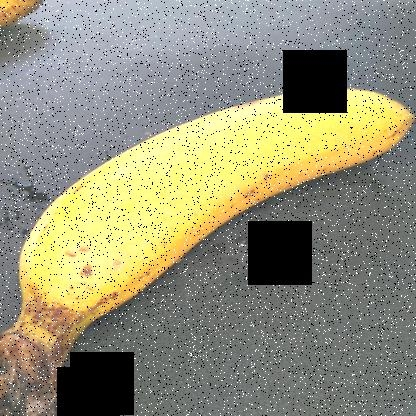freshripe: (14, 78, 415, 339)
